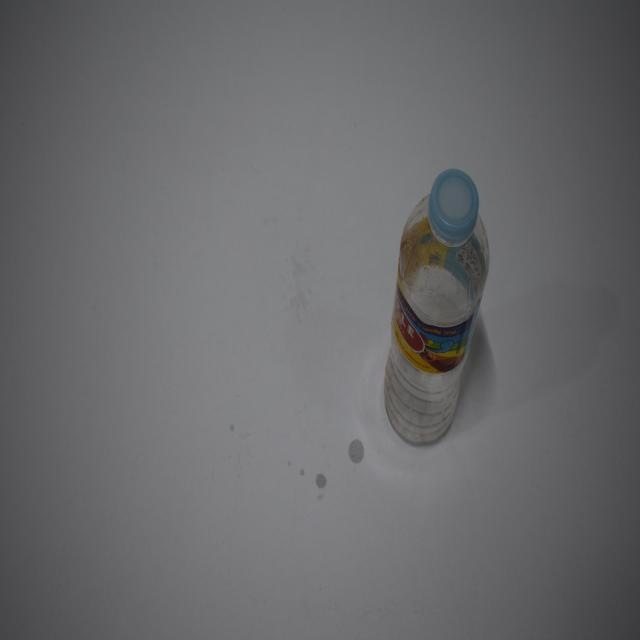bottle: (382, 165, 492, 448)
